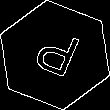P_S: (27, 25, 83, 85)
